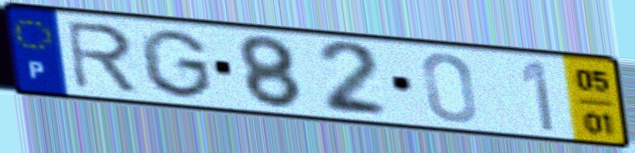0: (419, 50, 481, 125)
1: (518, 58, 559, 135)
2: (313, 38, 392, 118)
8: (235, 32, 306, 112)
G: (136, 26, 217, 101)
R: (62, 19, 142, 95)
